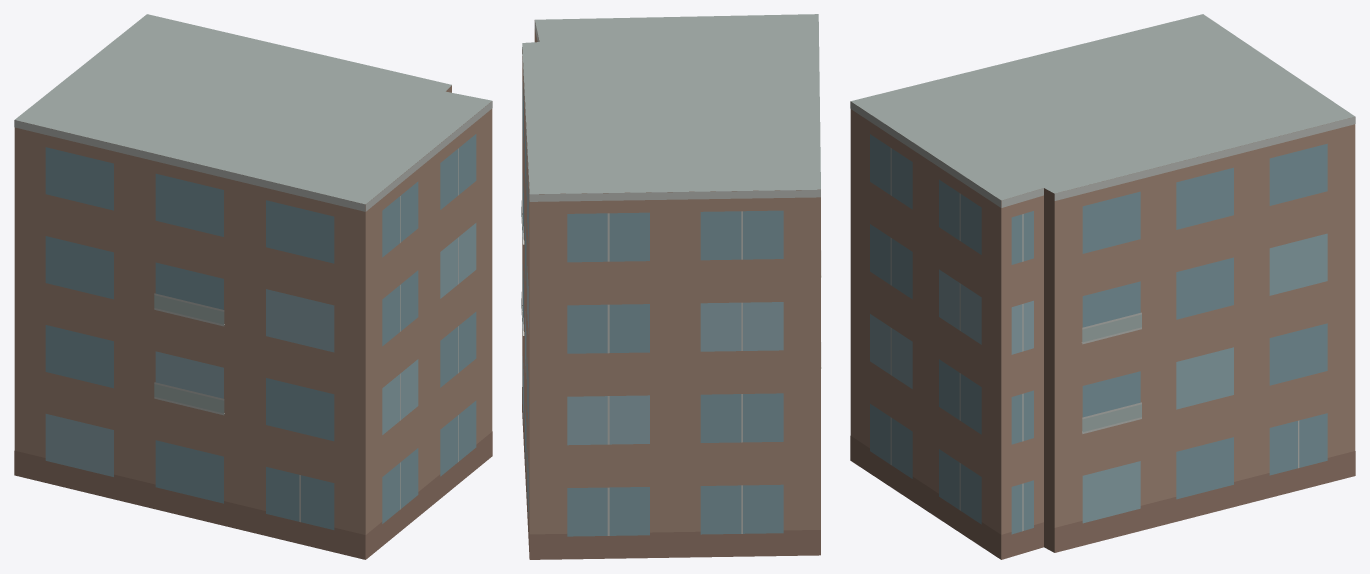
File: survey-upis-32503153.glb
The picture shows the model from 3 angles, left to right: view 1: azimuth 30°, elevation 25°; view 2: azimuth 150°, elevation 25°; view 3: azimuth 270°, elevation 25°; orthographic projection. The views are drawn at different scales.
Parts seen in each view (by area): view 1: survey-upis-32503153.tmp; view 2: survey-upis-32503153.tmp; view 3: survey-upis-32503153.tmp.
Boxes of the visible parts, <box> form: survey-upis-32503153.tmp: <box>14,14,492,559</box>; survey-upis-32503153.tmp: <box>521,14,821,559</box>; survey-upis-32503153.tmp: <box>850,14,1355,559</box>.
Size of the model in its own units: 12.93 by 11.6 by 14.78.
